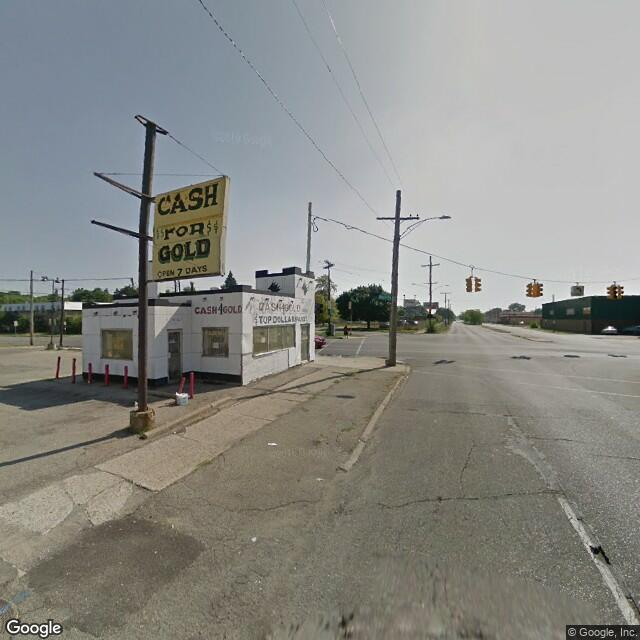litter: (264, 438, 281, 450)
